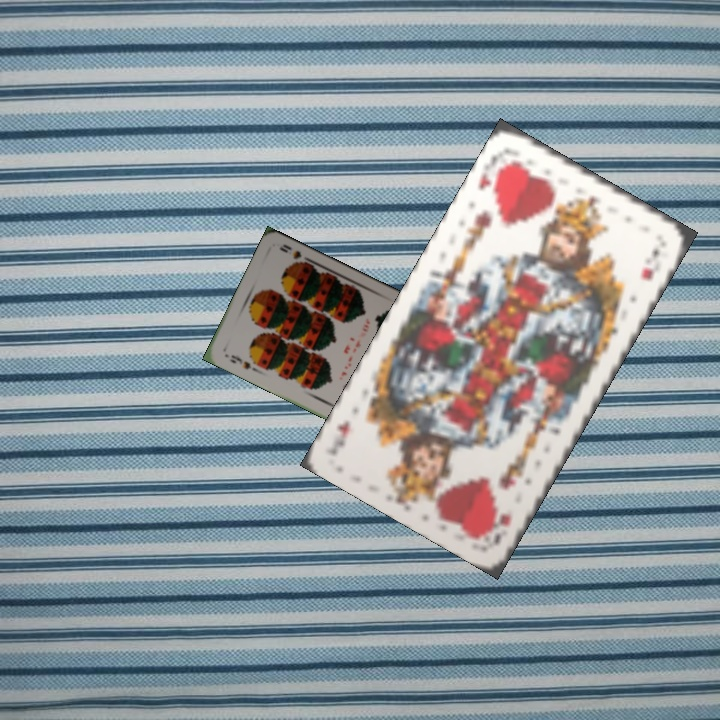HK: (474, 148, 515, 195), (483, 508, 515, 548)
S9: (226, 351, 254, 372)
